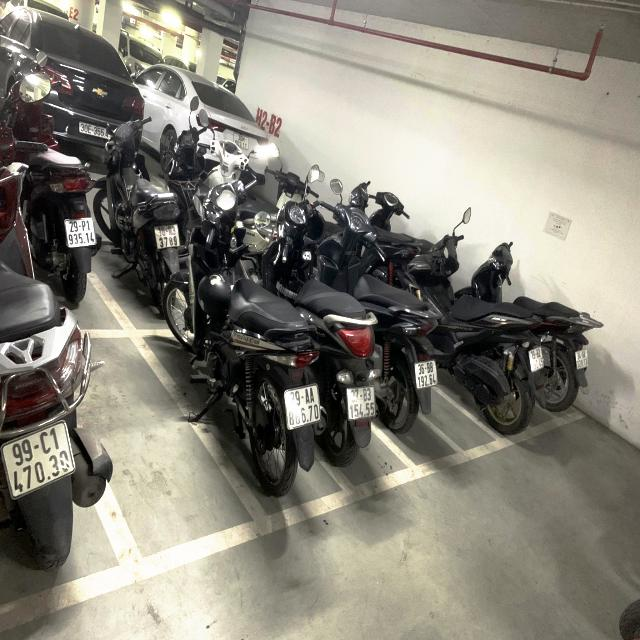license_plate: (1, 417, 78, 503), (285, 384, 322, 430), (347, 386, 378, 421), (65, 219, 98, 248), (415, 359, 440, 391), (155, 224, 182, 251)
